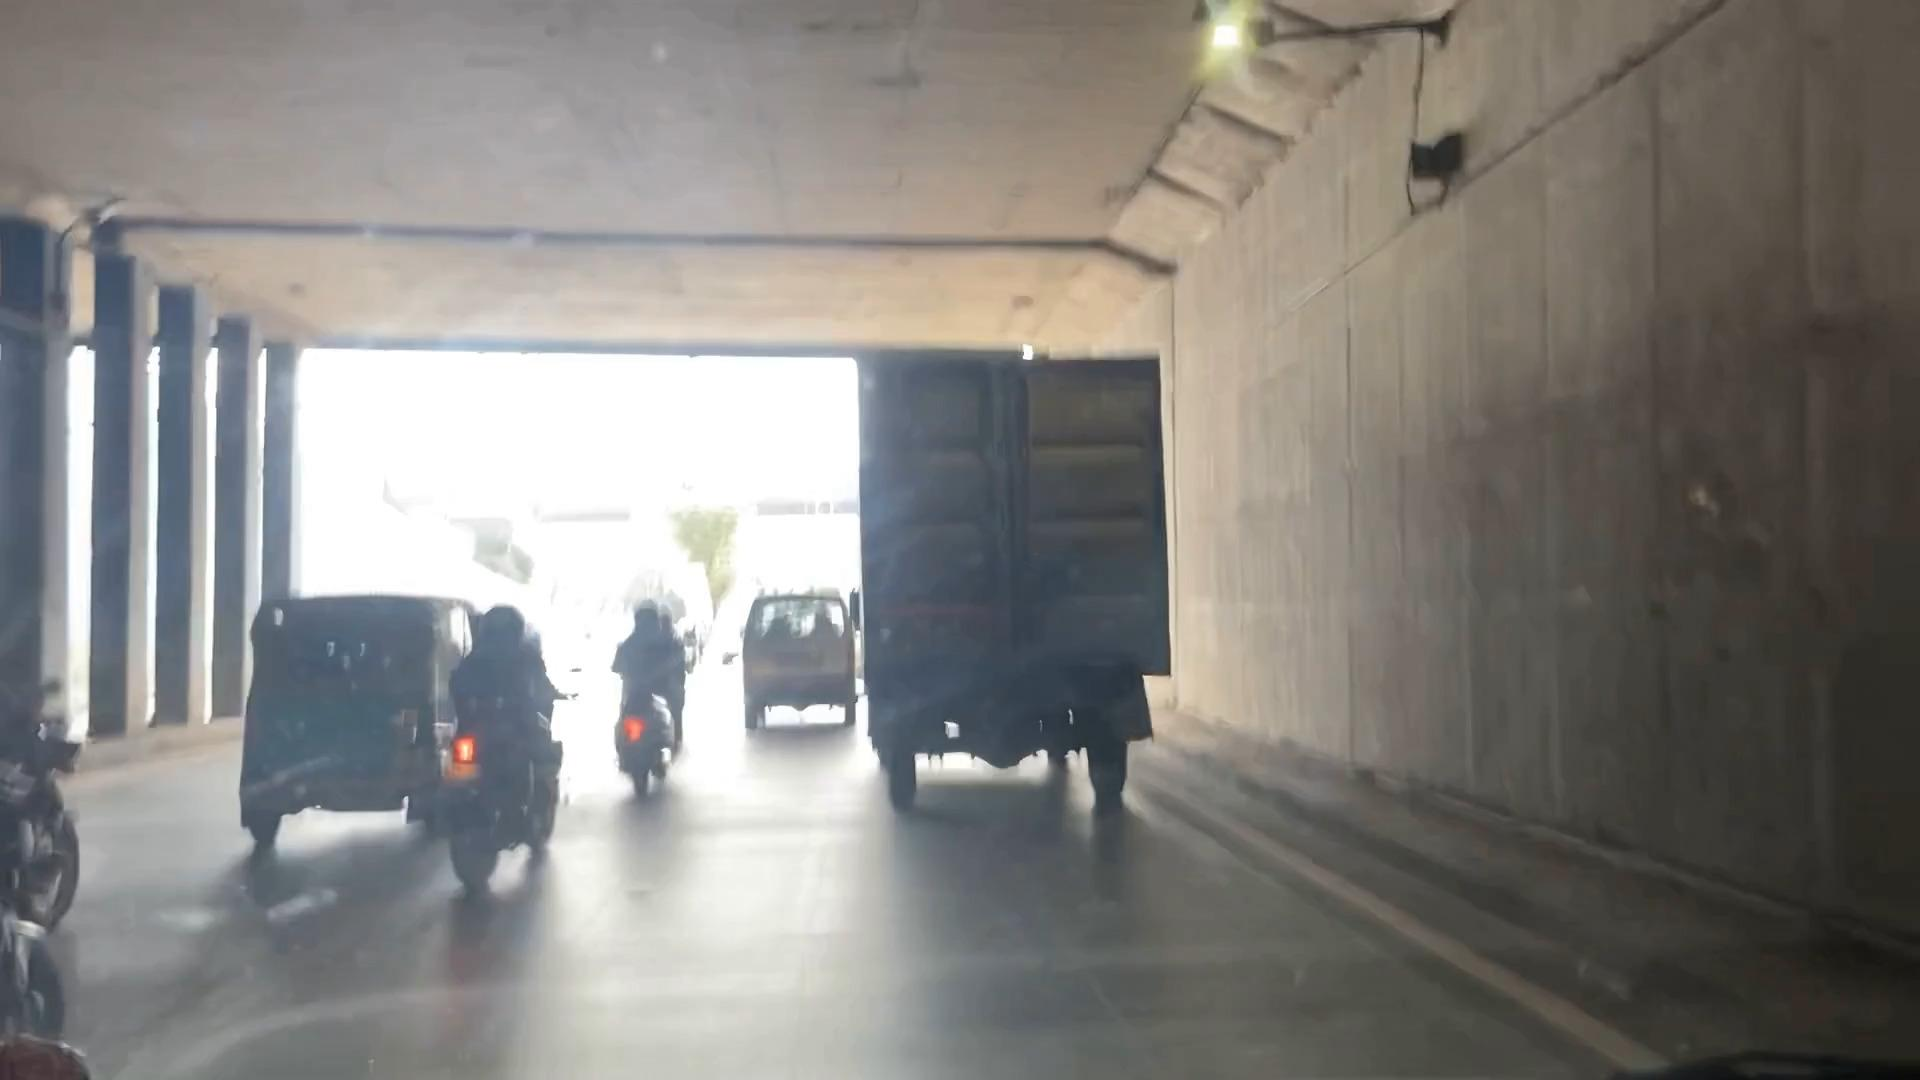HMV: (860, 349, 1171, 831)
LMV: (450, 620, 541, 886), (607, 593, 682, 815), (757, 567, 833, 735)
